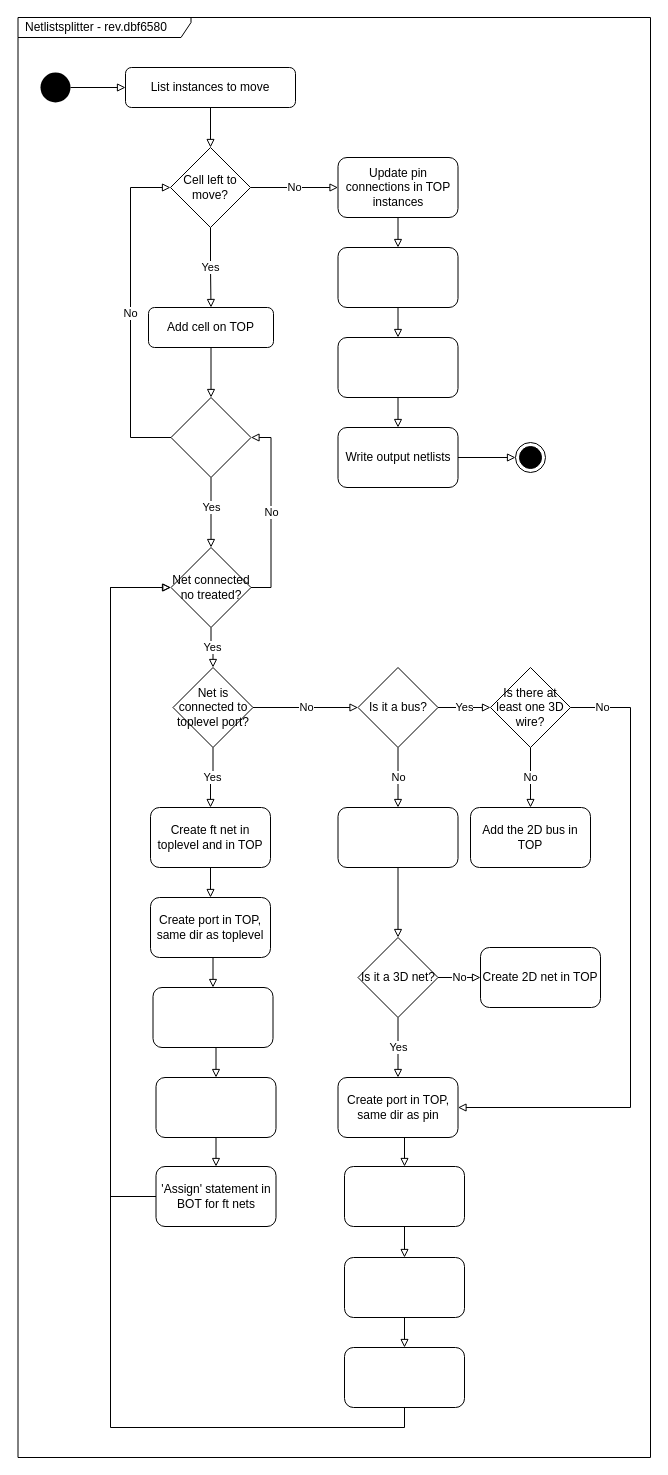
Image size: 668x1475. Some labels were removed from this diagram. The box of each missing label's shape, as (x1, y1, x2, y2) in pixels:
Call isNet3D(): (337, 806, 458, 868)
Create 3D net in toplevel: (344, 1346, 464, 1408)
Create in/out ft nets in BOT: (155, 1076, 276, 1138)
Create net in BOT: (344, 1256, 464, 1318)
Create pins in TOP and BOT modules in toplevel: (337, 246, 458, 308)
Create port in BOT, opposite dir: (344, 1166, 464, 1226)
Create ports in both directions in BOT: (152, 986, 273, 1048)
Pin not treated?: (170, 396, 251, 478)
Write 'assign' statements in BOT: (337, 336, 458, 398)
